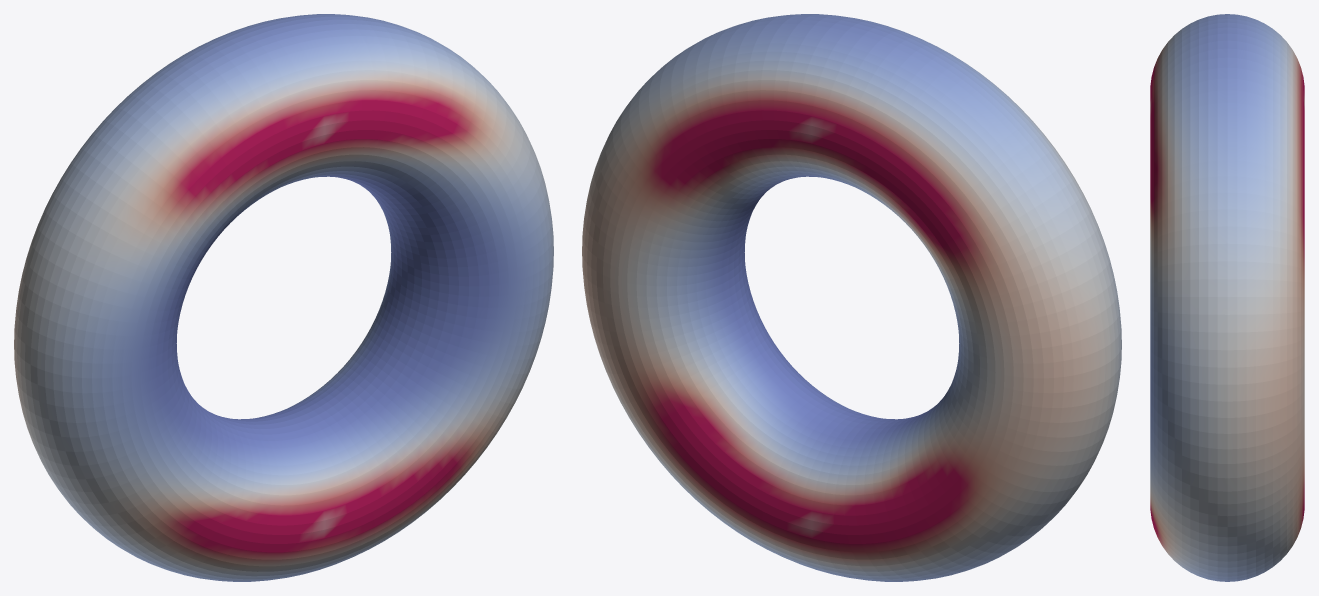
The picture shows the model from 3 angles, left to right: view 1: azimuth 30°, elevation 25°; view 2: azimuth 150°, elevation 25°; view 3: azimuth 270°, elevation 25°; orthographic projection. The views are drawn at different scales.
Parts seen in each view (by area): view 1: world; view 2: world; view 3: world.
Part boxes in pixels (x1,y1,x2,y2): world: [14, 14, 553, 581]; world: [582, 14, 1121, 581]; world: [1150, 14, 1304, 581].
Bounding box in the file's own units: 21.07 × 21.07 × 5.72.
